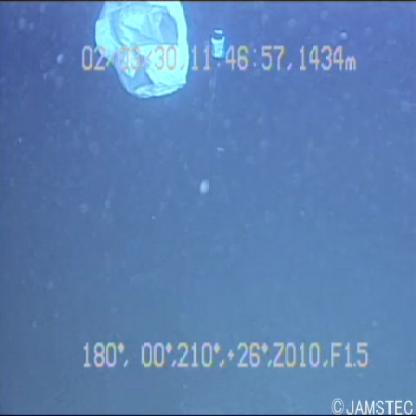Rác: (87, 1, 201, 94)
